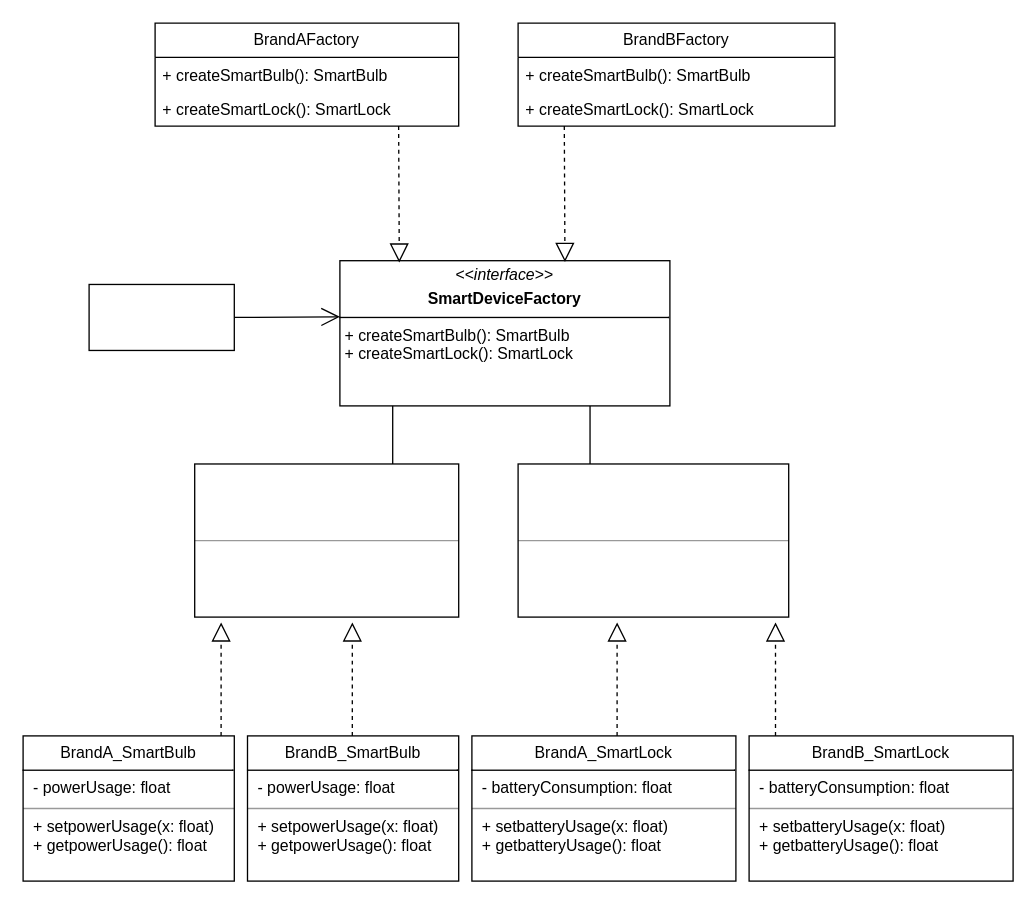
This 1036x904 diagram has some shape labels left out. The shapes that lost their labels are listed below. From the top down, each one's centre as x and y in pixels, then its label:
the point at 161,316: Client
the point at 326,540: « interface » SmartBulb + setpowerUsage(x: float) + getpowerUsage(): float
the point at 653,540: « interface » SmartLock + setbatteryUsage(x: float) + getbatteryUsage(): float
